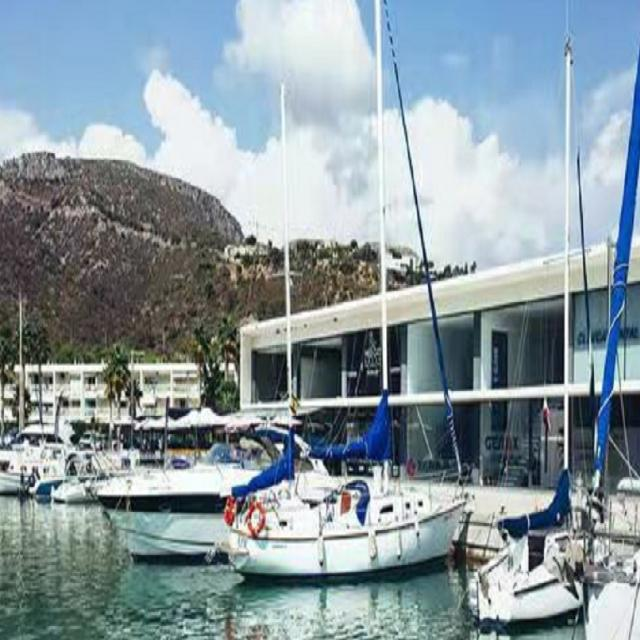houseboat: (217, 393, 462, 591)
